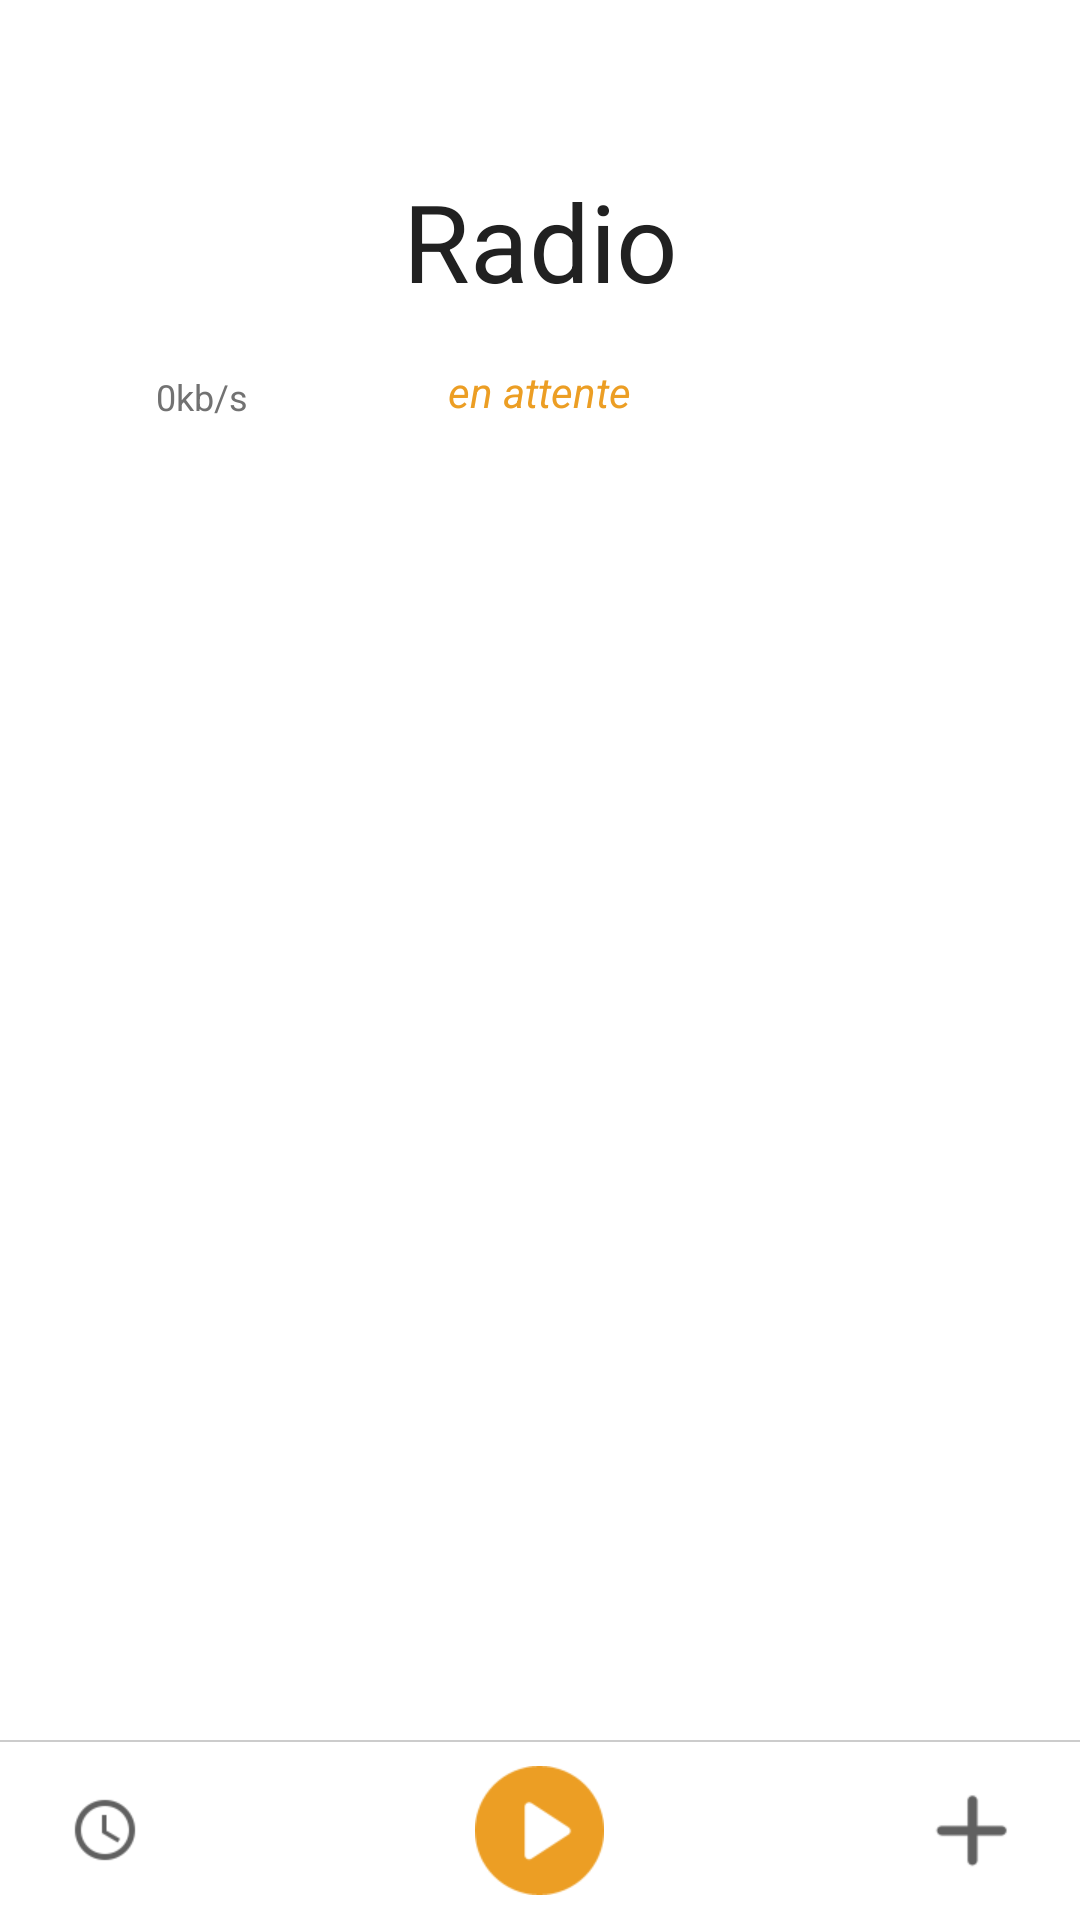

Named icons in this screenshot (1080w x 1920h) and their bounding boxes, (x1, y1, x2, y2):
add: (936, 1795, 1007, 1866)
musicplayer play: (475, 1766, 604, 1895)
sleep timer: (74, 1799, 136, 1861)
